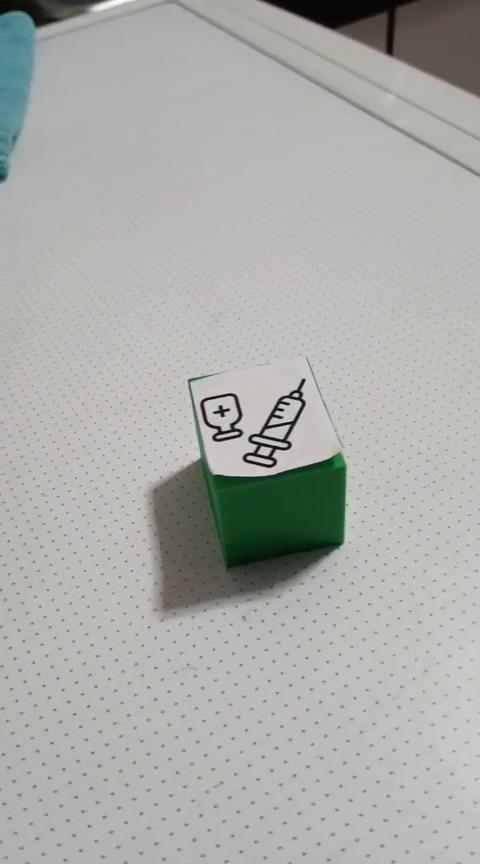antiseptic cream: (185, 353, 347, 569)
